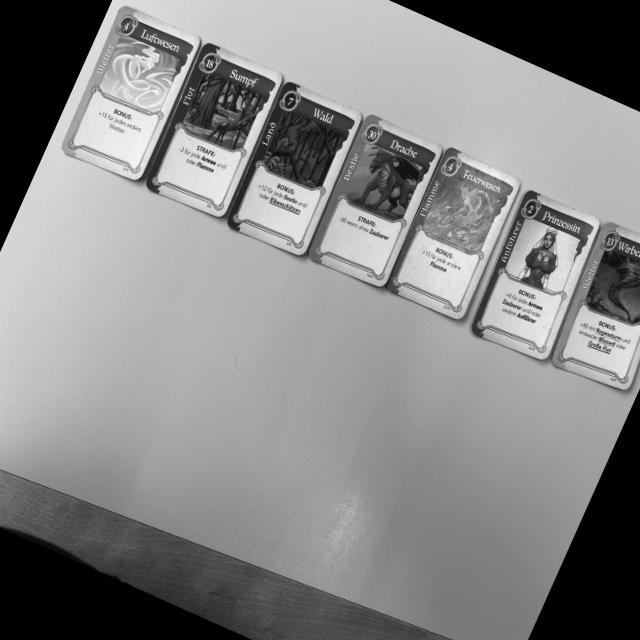Air Elemental: (52, 0, 207, 190)
Dragon: (303, 114, 447, 294)
Fire Elemental: (381, 140, 528, 325)
Forest: (221, 79, 367, 262)
Princess: (467, 187, 603, 360)
Swamp: (138, 37, 288, 221)
Whirlwind: (546, 216, 640, 394)
